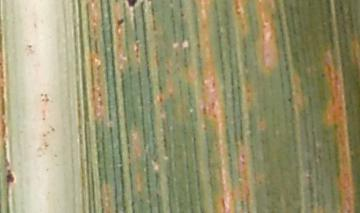tarspot: (126, 1, 138, 8), (116, 18, 125, 26)
